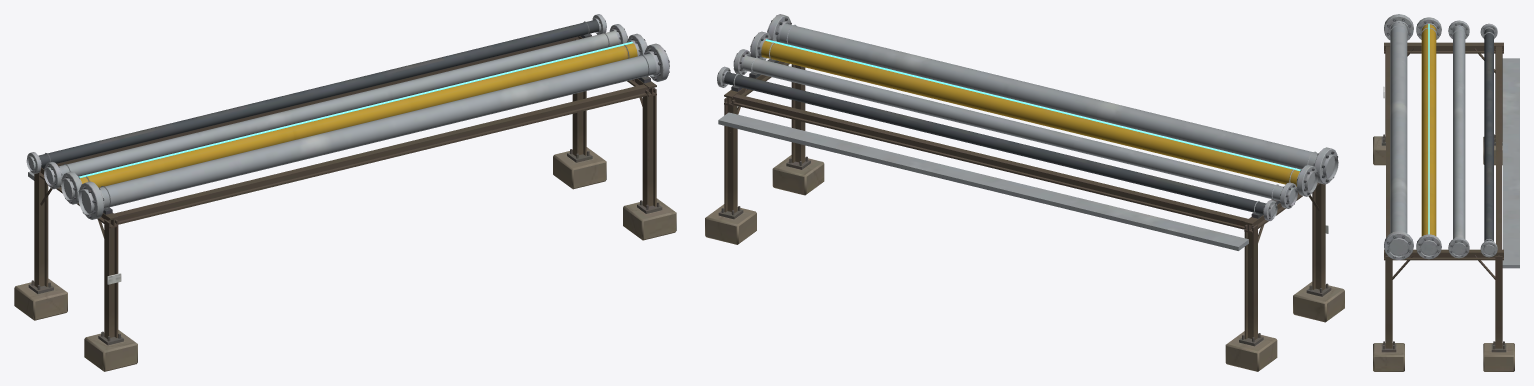
The model's file is pipe_rack.glb.
3 renders of one model, left to right at view 1: azimuth 30°, elevation 25°; view 2: azimuth 150°, elevation 25°; view 3: azimuth 270°, elevation 25°, orthographic. The views are drawn at different scales.
Visible parts, largest first — view 1: pipe_rack_Body, FlowGlow; view 2: pipe_rack_Body, FlowGlow; view 3: pipe_rack_Body, FlowGlow.
Part boxes in pixels (<box>): pipe_rack_Body: <box>14,14,676,371</box>; FlowGlow: <box>78,41,633,177</box>; pipe_rack_Body: <box>705,14,1344,371</box>; FlowGlow: <box>765,39,1301,170</box>; pipe_rack_Body: <box>1373,14,1519,371</box>; FlowGlow: <box>1428,24,1429,234</box>.
Bounding box in the file's own units: 4.3 × 1.25 × 1.2.
Materials: 2 (1 with a texture image).
